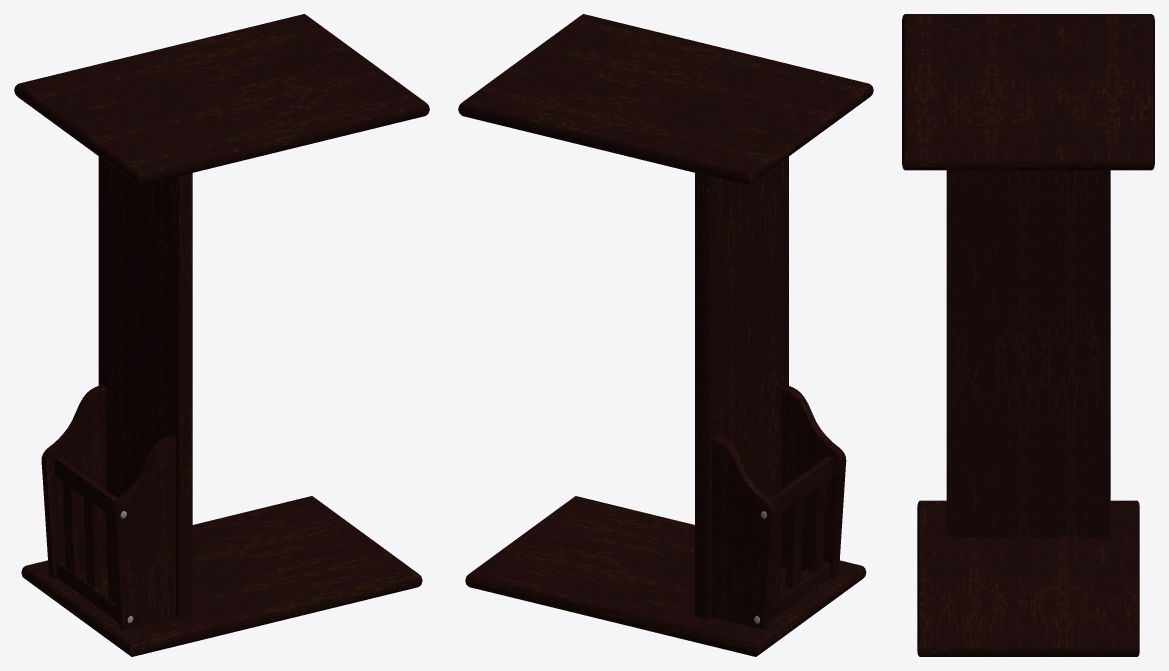
Rendered from CHLH2045_v6_LOD2.obj.
The picture shows the model from 3 angles, left to right: view 1: azimuth 30°, elevation 25°; view 2: azimuth 150°, elevation 25°; view 3: azimuth 270°, elevation 25°; orthographic projection. The views are drawn at different scales.
Parts seen in each view (by area): view 1: not_clear_obj_1_v6; view 2: not_clear_obj_1_v6; view 3: not_clear_obj_1_v6.
Part boxes in pixels (x1=…): not_clear_obj_1_v6: x1=14, y1=14, x2=429, y2=656; not_clear_obj_1_v6: x1=458, y1=14, x2=873, y2=656; not_clear_obj_1_v6: x1=902, y1=14, x2=1154, y2=656.
Size of what is drawn, in the model's own units: 38.11 by 60.94 by 27.89.
2 materials, 1 textured.
